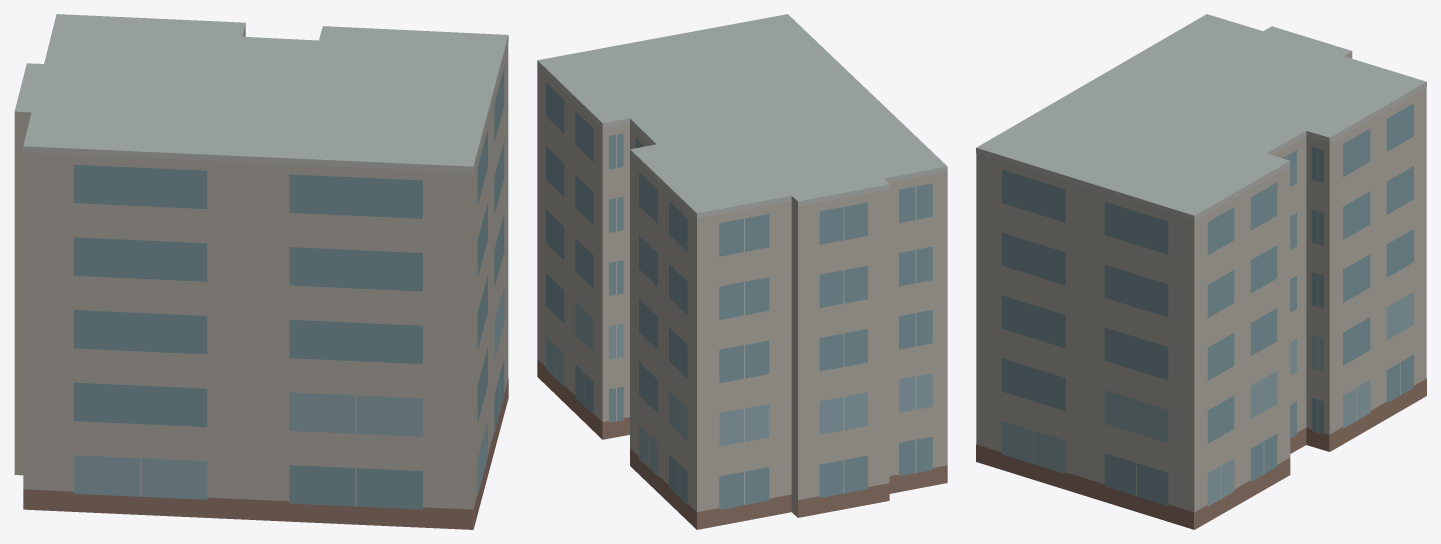
File: survey-upis-32652636.glb
3 renders of one model, left to right at view 1: azimuth 30°, elevation 25°; view 2: azimuth 150°, elevation 25°; view 3: azimuth 270°, elevation 25°, orthographic. The views are drawn at different scales.
Visible parts, largest first — view 1: survey-upis-32652636.tmp; view 2: survey-upis-32652636.tmp; view 3: survey-upis-32652636.tmp.
Part boxes in pixels (<box>): survey-upis-32652636.tmp: <box>14,14,508,529</box>; survey-upis-32652636.tmp: <box>537,14,947,529</box>; survey-upis-32652636.tmp: <box>976,14,1426,529</box>.
Size of the model in its own units: 20.35 by 14.77 by 19.21.
